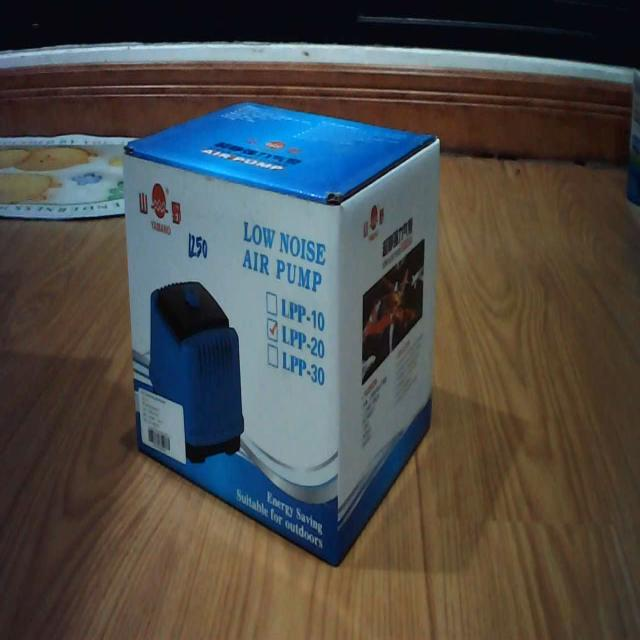YAMANO_LPP_20: (121, 76, 445, 575)
